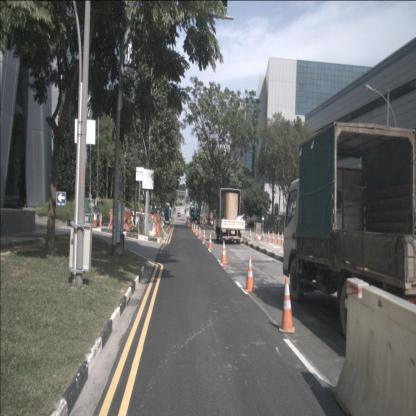movable_object-barrier: (334, 277, 416, 415), (108, 209, 134, 231), (139, 215, 162, 238), (137, 213, 157, 237)
movable_object-trafficcone: (279, 277, 295, 333), (244, 255, 255, 293), (220, 240, 228, 264), (208, 233, 212, 250), (94, 212, 98, 228), (92, 212, 96, 227), (99, 213, 103, 227), (202, 229, 206, 243), (271, 231, 275, 244), (266, 230, 270, 243), (280, 232, 284, 245), (276, 232, 280, 244), (261, 230, 265, 241), (198, 227, 202, 238), (195, 224, 199, 234), (255, 230, 259, 240), (249, 229, 252, 240), (193, 223, 196, 233), (192, 222, 194, 231)
vehicle-bicycle: (124, 210, 145, 235)
vehicle-truck: (282, 122, 416, 340), (213, 188, 245, 244)
